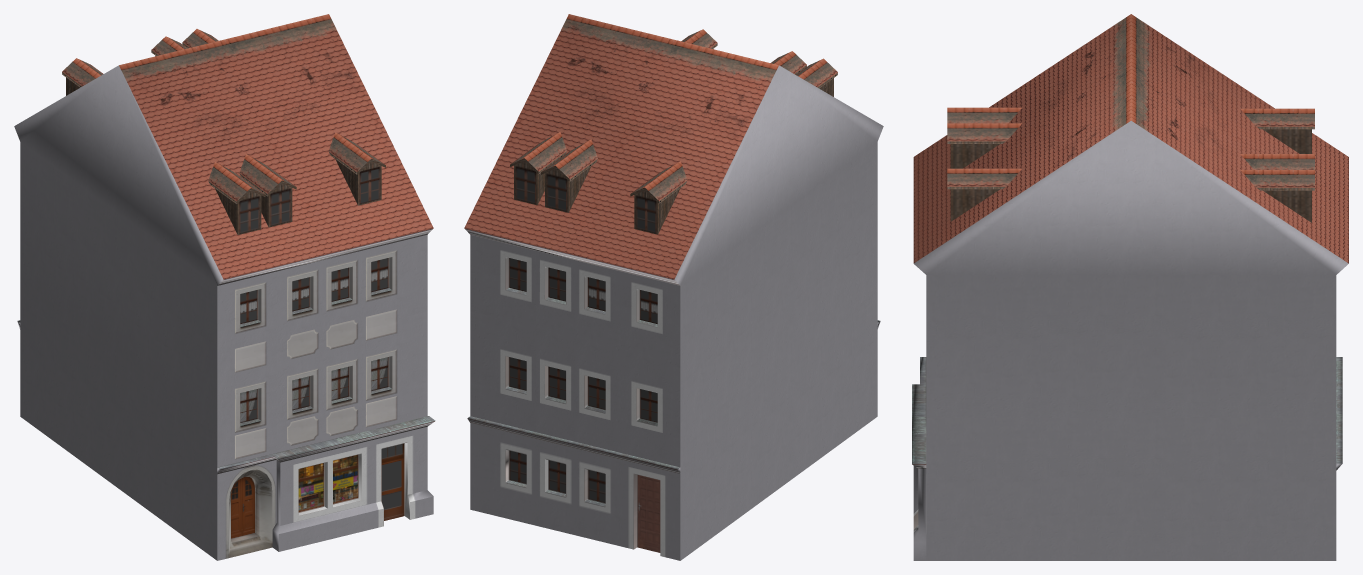
3 renders of one model, left to right at view 1: azimuth 30°, elevation 25°; view 2: azimuth 150°, elevation 25°; view 3: azimuth 270°, elevation 25°, orthographic. The views are drawn at different scales.
Visible parts, largest first — view 1: SketchUp_Material_0; view 2: SketchUp_Material_0; view 3: SketchUp_Material_0.
Boxes of the visible parts, <box> form: SketchUp_Material_0: <box>14,14,435,560</box>; SketchUp_Material_0: <box>464,14,883,560</box>; SketchUp_Material_0: <box>912,14,1348,560</box>.
Size of the model in its own units: 805 by 1540 by 1385.
1 material, 1 textured.
